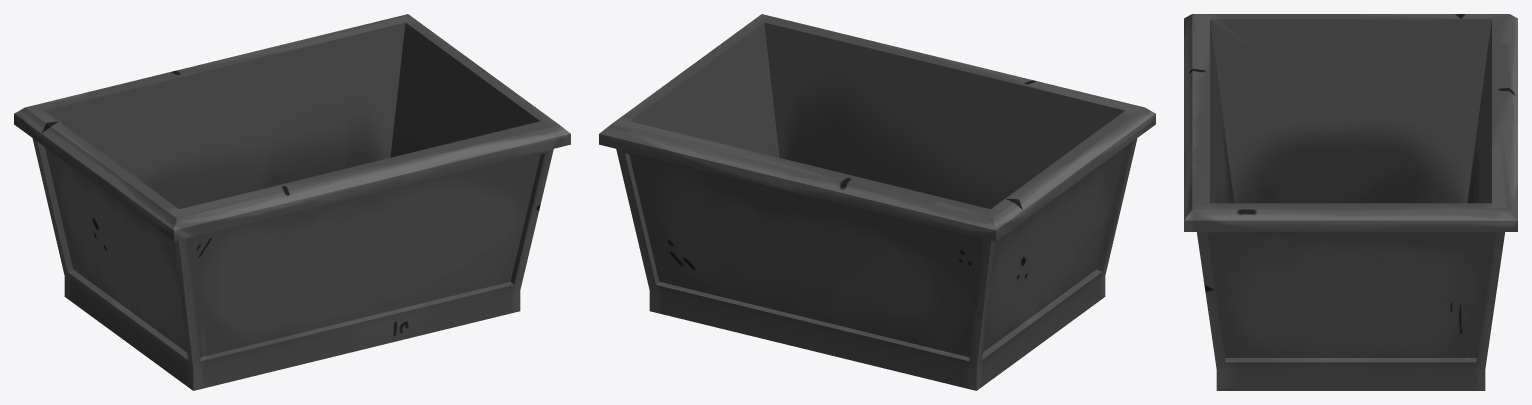
The model's file is vagonsolomesh.fbx.
The picture shows the model from 3 angles, left to right: view 1: azimuth 30°, elevation 25°; view 2: azimuth 150°, elevation 25°; view 3: azimuth 270°, elevation 25°; orthographic projection. The views are drawn at different scales.
Parts seen in each view (by area): view 1: Vagon; view 2: Vagon; view 3: Vagon.
Part boxes in pixels (left/top/right/bottom): Vagon: left=14, top=14, right=570, bottom=390; Vagon: left=599, top=14, right=1155, bottom=390; Vagon: left=1184, top=14, right=1517, bottom=390.
Size of the model in its own units: 1671 by 757 by 1166.
